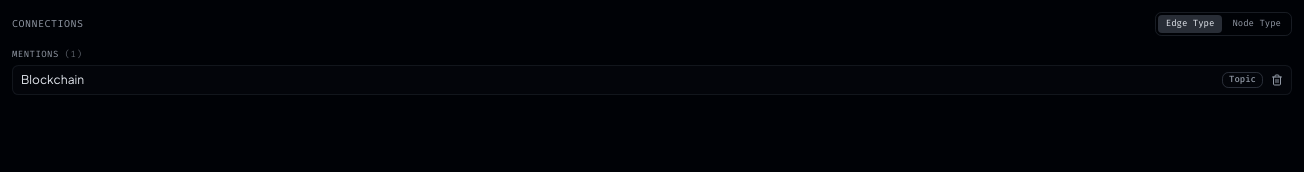
Test case: ConnectionsSection – admin delete › keeps the edge and shows an inline error when deleteEdge fails
Step 1. Click the button named "Remove connection" → (1277, 80), box top-left (1271, 74), bottom-right (1283, 86)
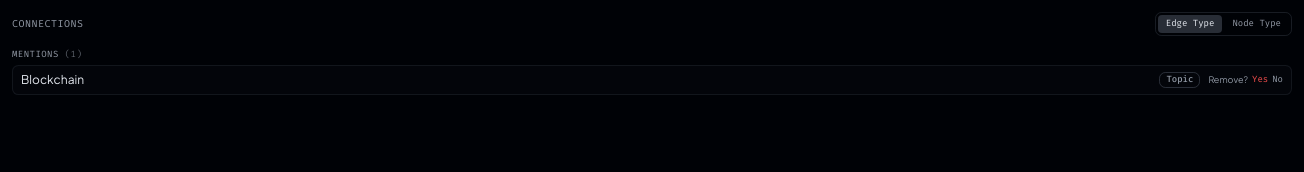
Step 2. Click the button with aria-label "Confirm remove" → (1260, 80), box top-left (1252, 73), bottom-right (1268, 87)
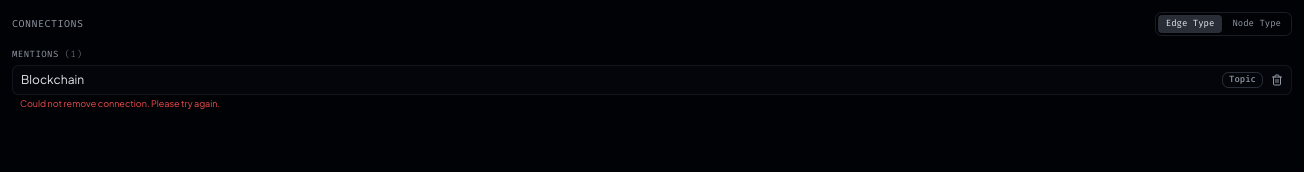
expect the text "Blockchain" is shown: met, box top-left (21, 72), bottom-right (84, 88)
expect the message shows "Could not remove connection": met, box top-left (20, 98), bottom-right (220, 109)
